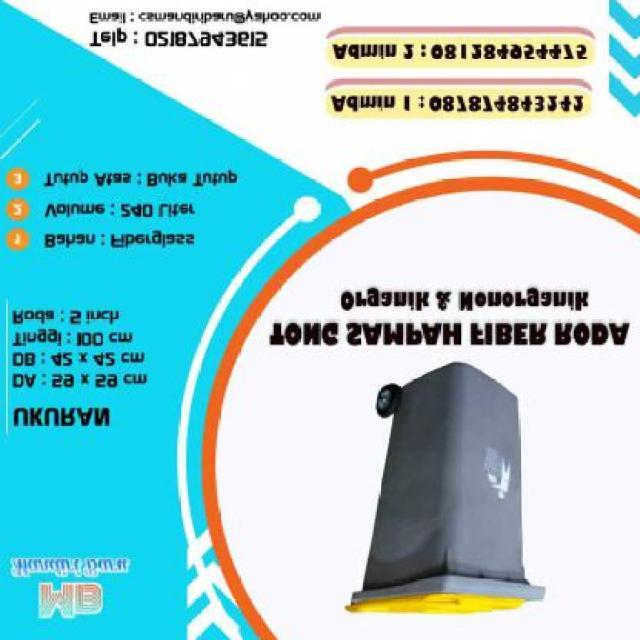garbage container: (343, 349, 565, 625)
